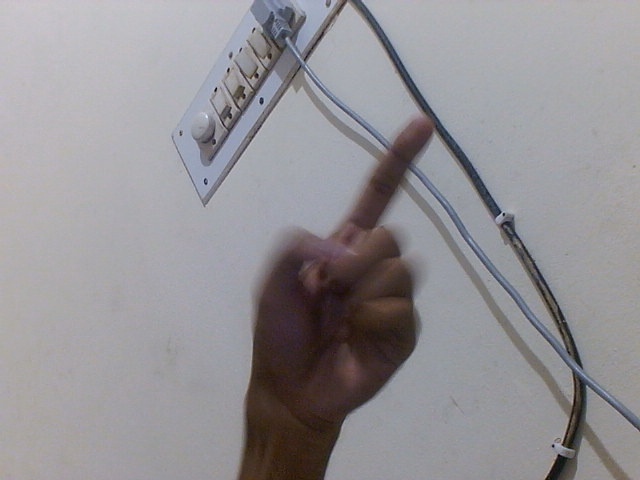hand: (242, 112, 446, 433)
